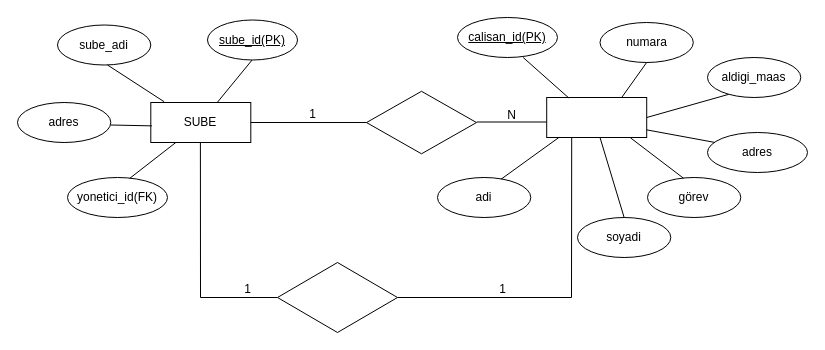
The diagram is 825 pixels wide and 350 high, and some of its shapes have lost their labels. Each missing label, with the centre of its shape:
"CALİSAN" belongs at (x=596, y=117).
"CALİSİR" belongs at (x=421, y=122).
"YONETİR" belongs at (x=337, y=297).
